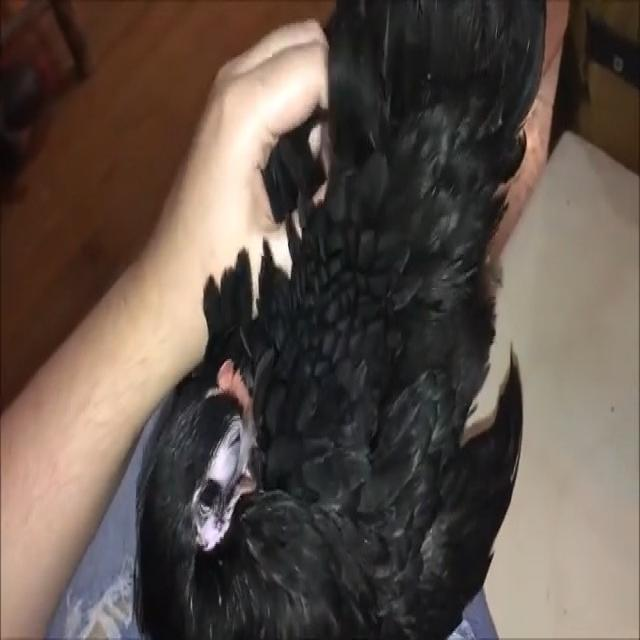self preening: (130, 0, 553, 640)
